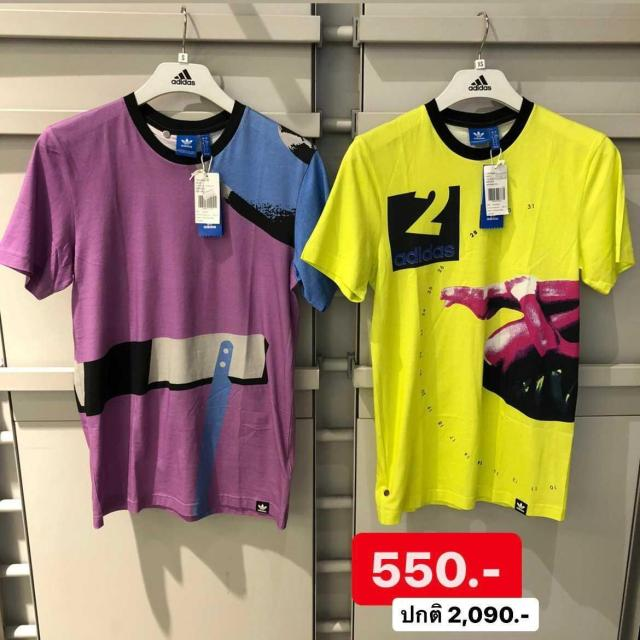Tshirt: (12, 94, 344, 542), (327, 91, 634, 528)
